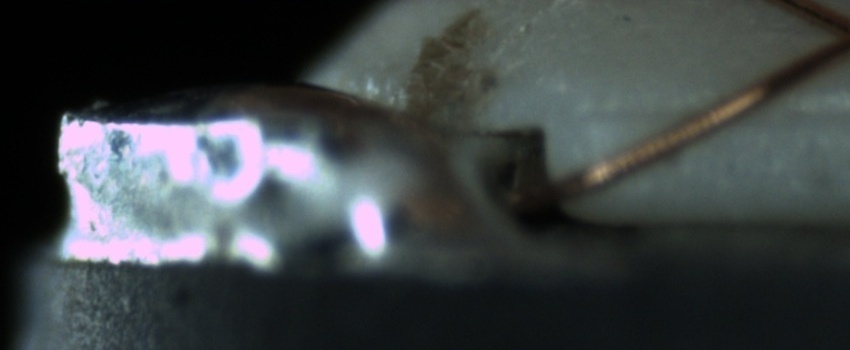DL: (600, 78, 850, 148)
